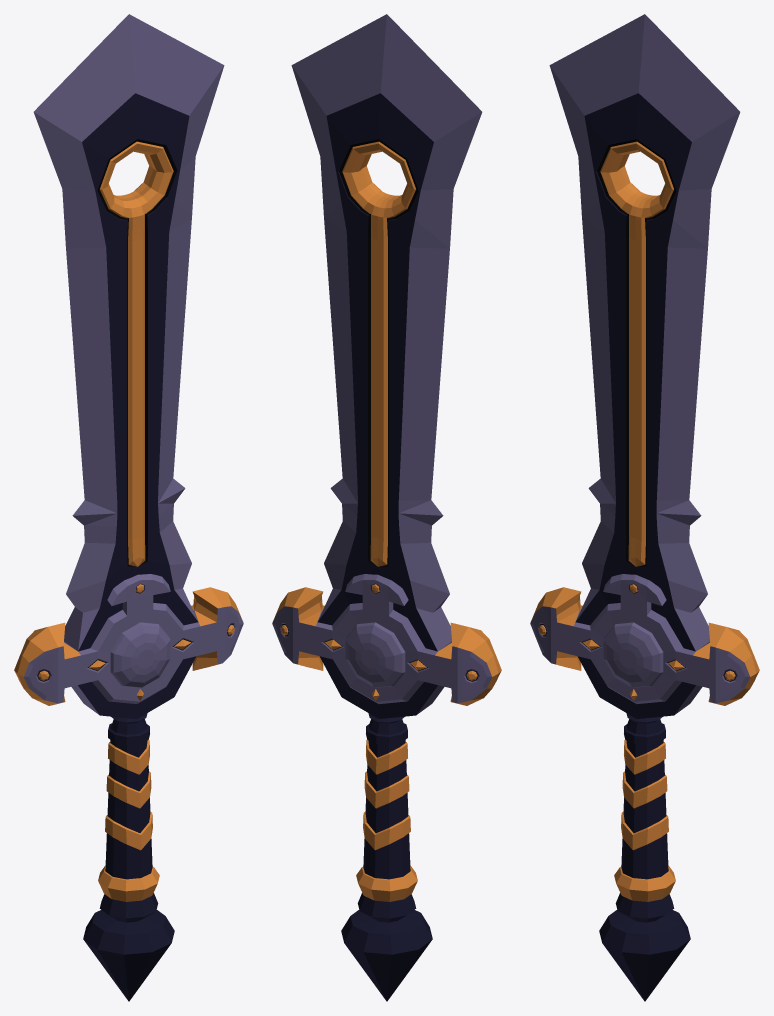
The model's file is Heavy_sword.glb.
3 renders of one model, left to right at view 1: azimuth 30°, elevation 25°; view 2: azimuth 150°, elevation 25°; view 3: azimuth 330°, elevation 25°, orthographic.
Visible parts, largest first — view 1: Sword; view 2: Sword; view 3: Sword.
Boxes of the visible parts, left/top/right/bottom form: Sword: left=14, top=14, right=243, bottom=1001; Sword: left=272, top=14, right=501, bottom=1001; Sword: left=530, top=14, right=759, bottom=1001.
Size of the model in its own units: 0.5286 by 2.24 by 0.1923.
